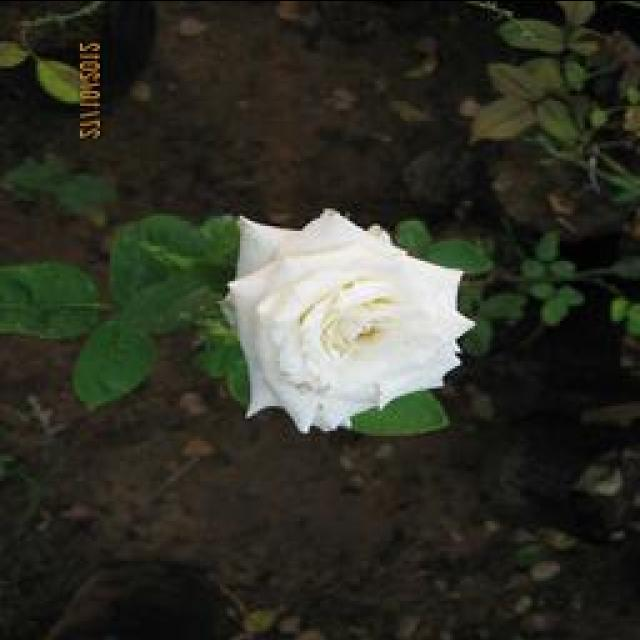rose: (248, 219, 474, 438)
